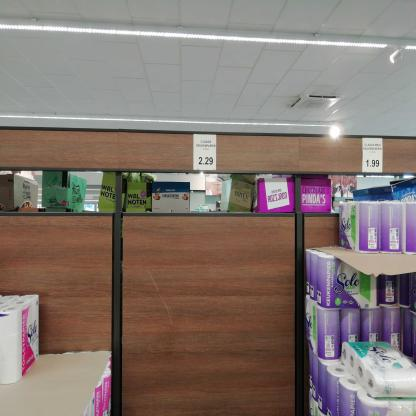prtg: (195, 135, 218, 171), (363, 139, 384, 173)
